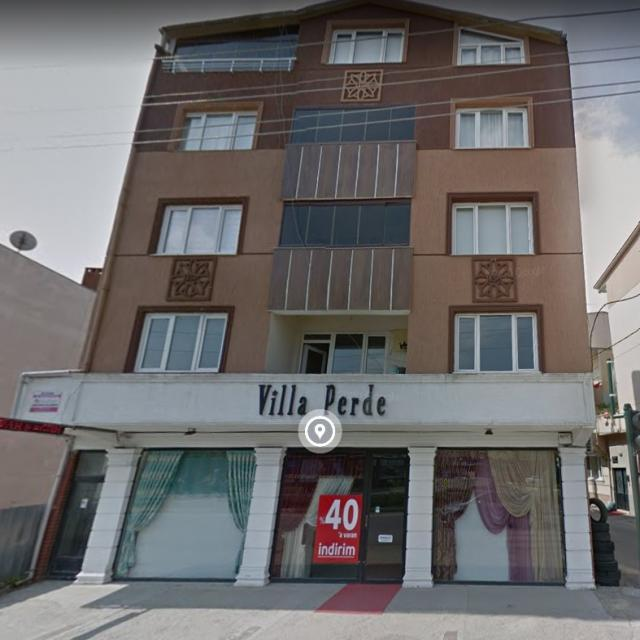Building: (8, 0, 596, 585)
